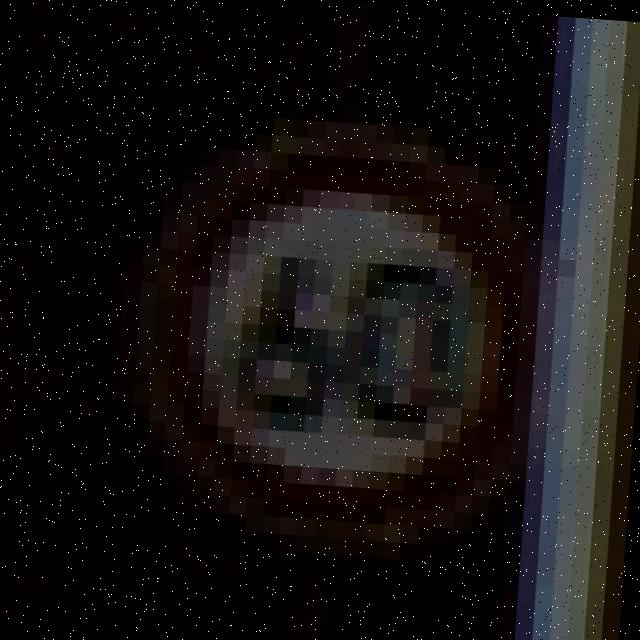Ograniczenie predkosci do 60: (139, 130, 538, 548)
